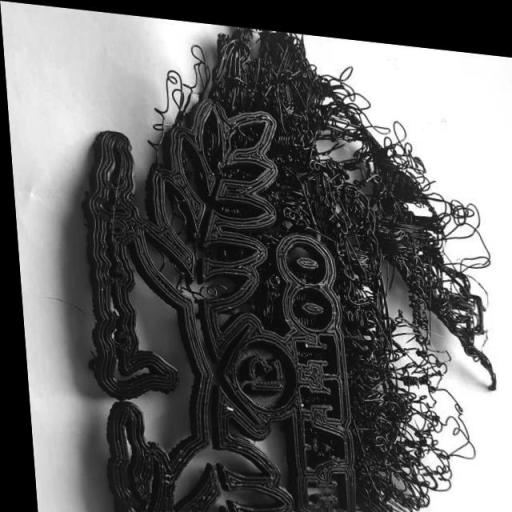spaghetti_and_stringing: (354, 332, 451, 490), (378, 188, 444, 294), (260, 60, 327, 140), (324, 61, 370, 147), (276, 138, 328, 205), (321, 180, 369, 250), (426, 178, 481, 236), (388, 126, 427, 186), (161, 58, 204, 112), (359, 471, 410, 512)
